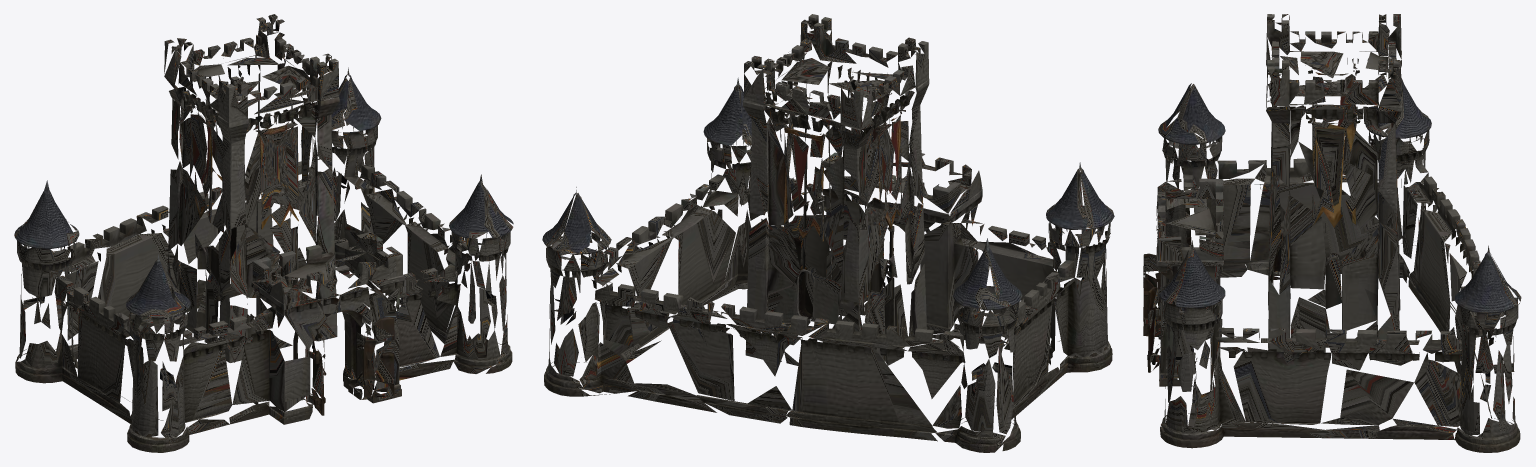
File: bld_castle_a_LOD1.glb
The picture shows the model from 3 angles, left to right: view 1: azimuth 30°, elevation 25°; view 2: azimuth 150°, elevation 25°; view 3: azimuth 270°, elevation 25°; orthographic projection. The views are drawn at different scales.
Visible parts, largest first — view 1: geometry_0; view 2: geometry_0; view 3: geometry_0.
Boxes of the visible parts, x1,y1,x2,y2 form: geometry_0: (14,14,513,452); geometry_0: (542,14,1114,452); geometry_0: (1143,14,1521,452).
Size of the model in its own units: 28 by 20 by 21.99.
1 material, 1 textured.
